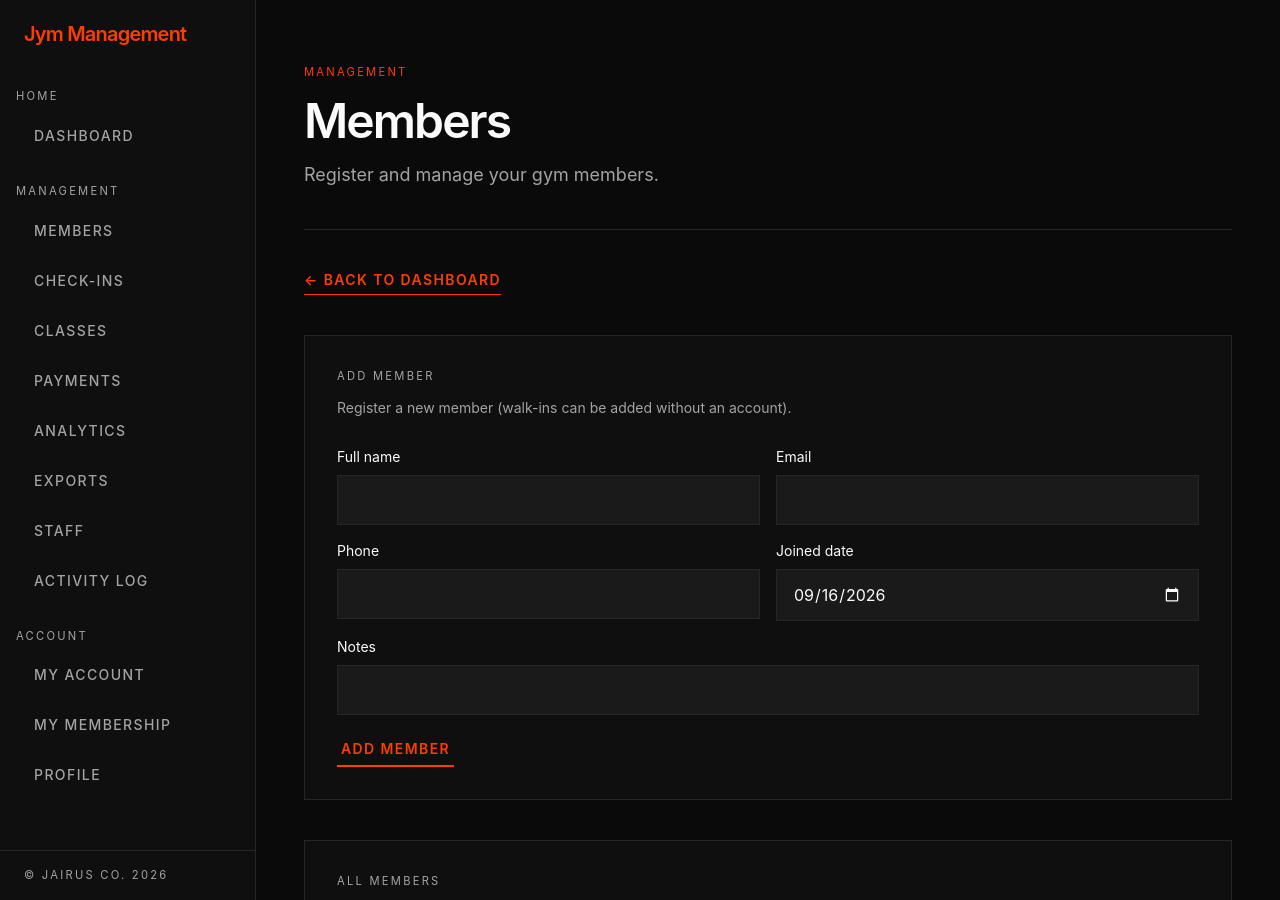
Test: MembersPage › rejects adding a member without a name
Click the button "Add member" at point(396, 749), box 337,731 -> 454,767
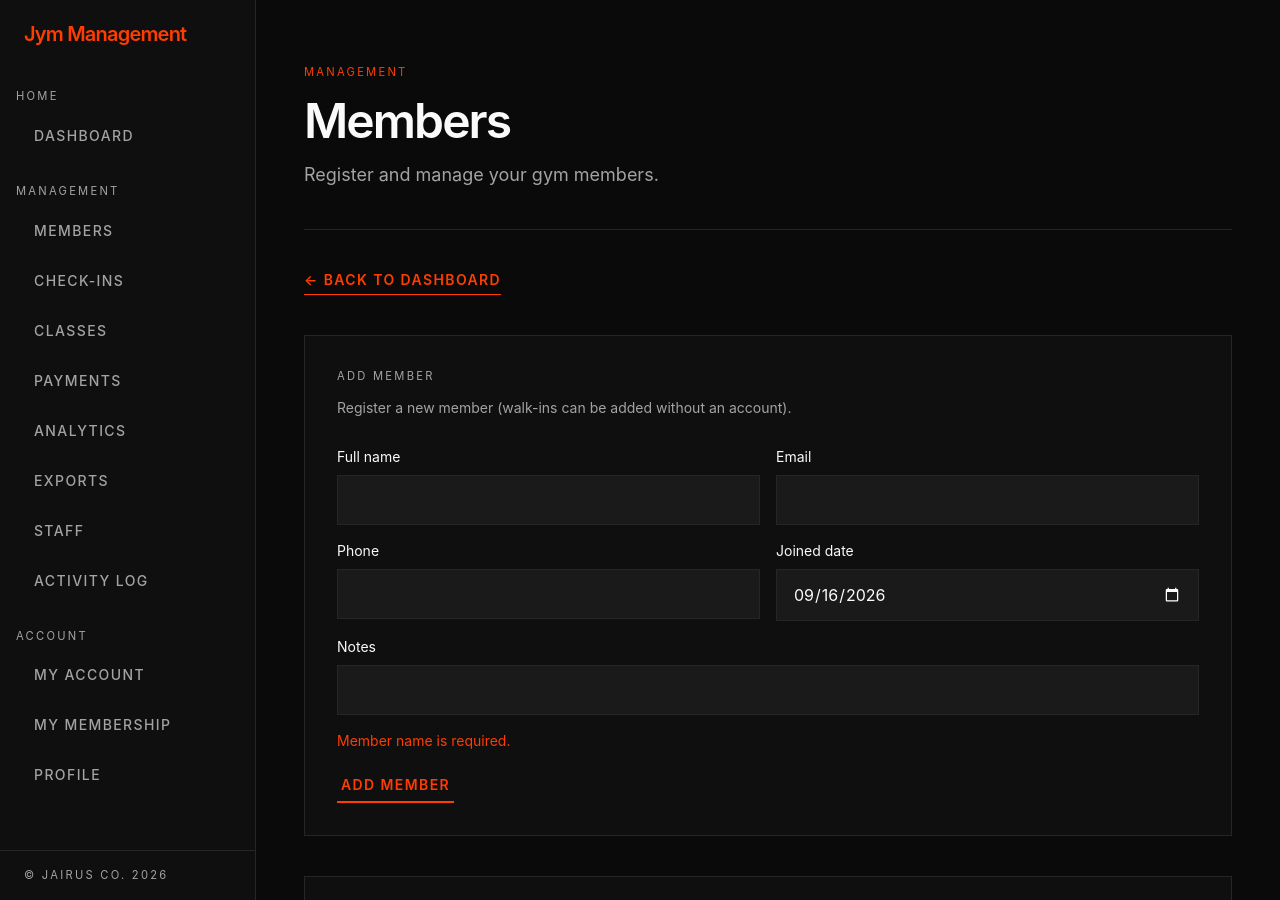
Now the text "Member name is required." is shown, box 337,732 -> 510,749
